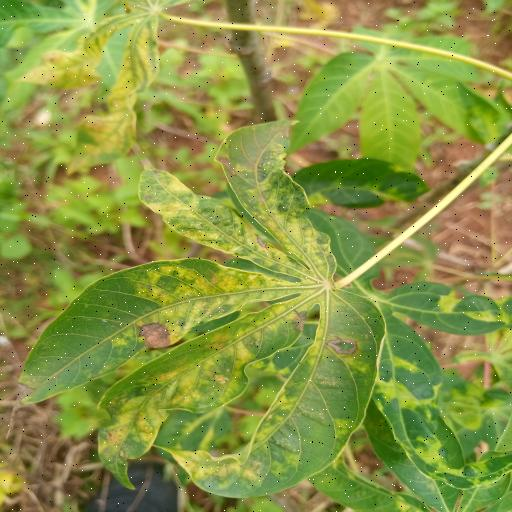Cassava_Mosaic: (20, 114, 512, 504)
